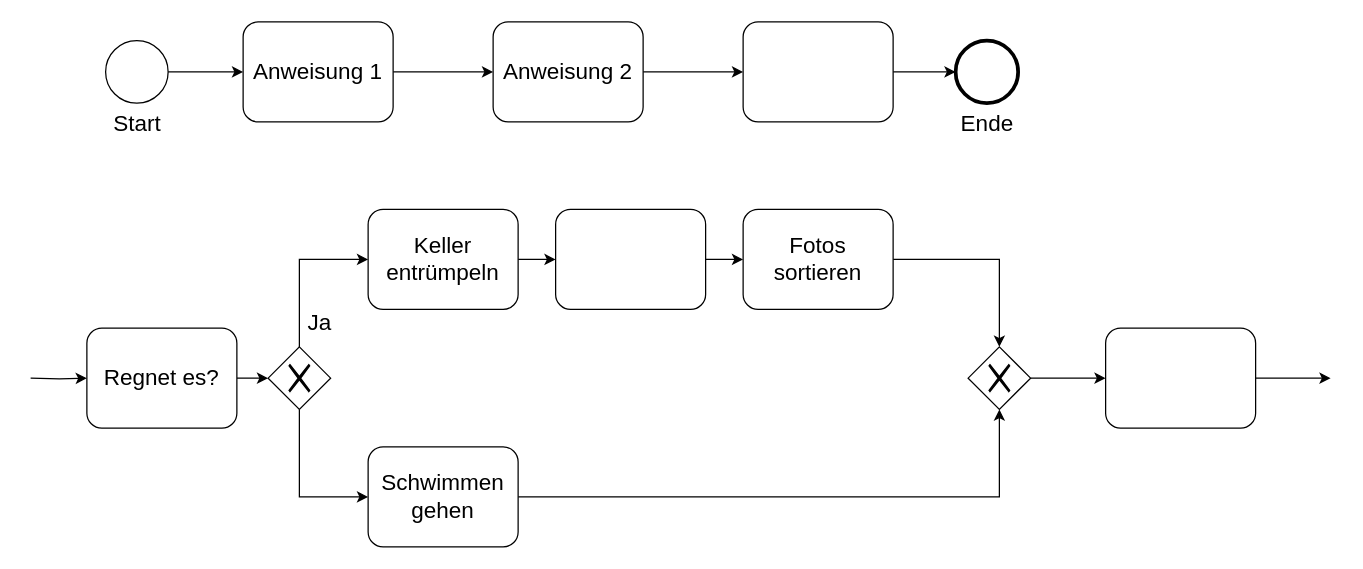
Some shapes in this 1363 by 569 pixel diagram are drawn without their labels. Each missing label, with the box of its shape:
Anweisung N: (742, 21, 893, 122)
Ins Kino gehen: (1104, 327, 1256, 428)
Nein: (267, 346, 331, 409)
Schränke aufräumen: (554, 208, 706, 309)
